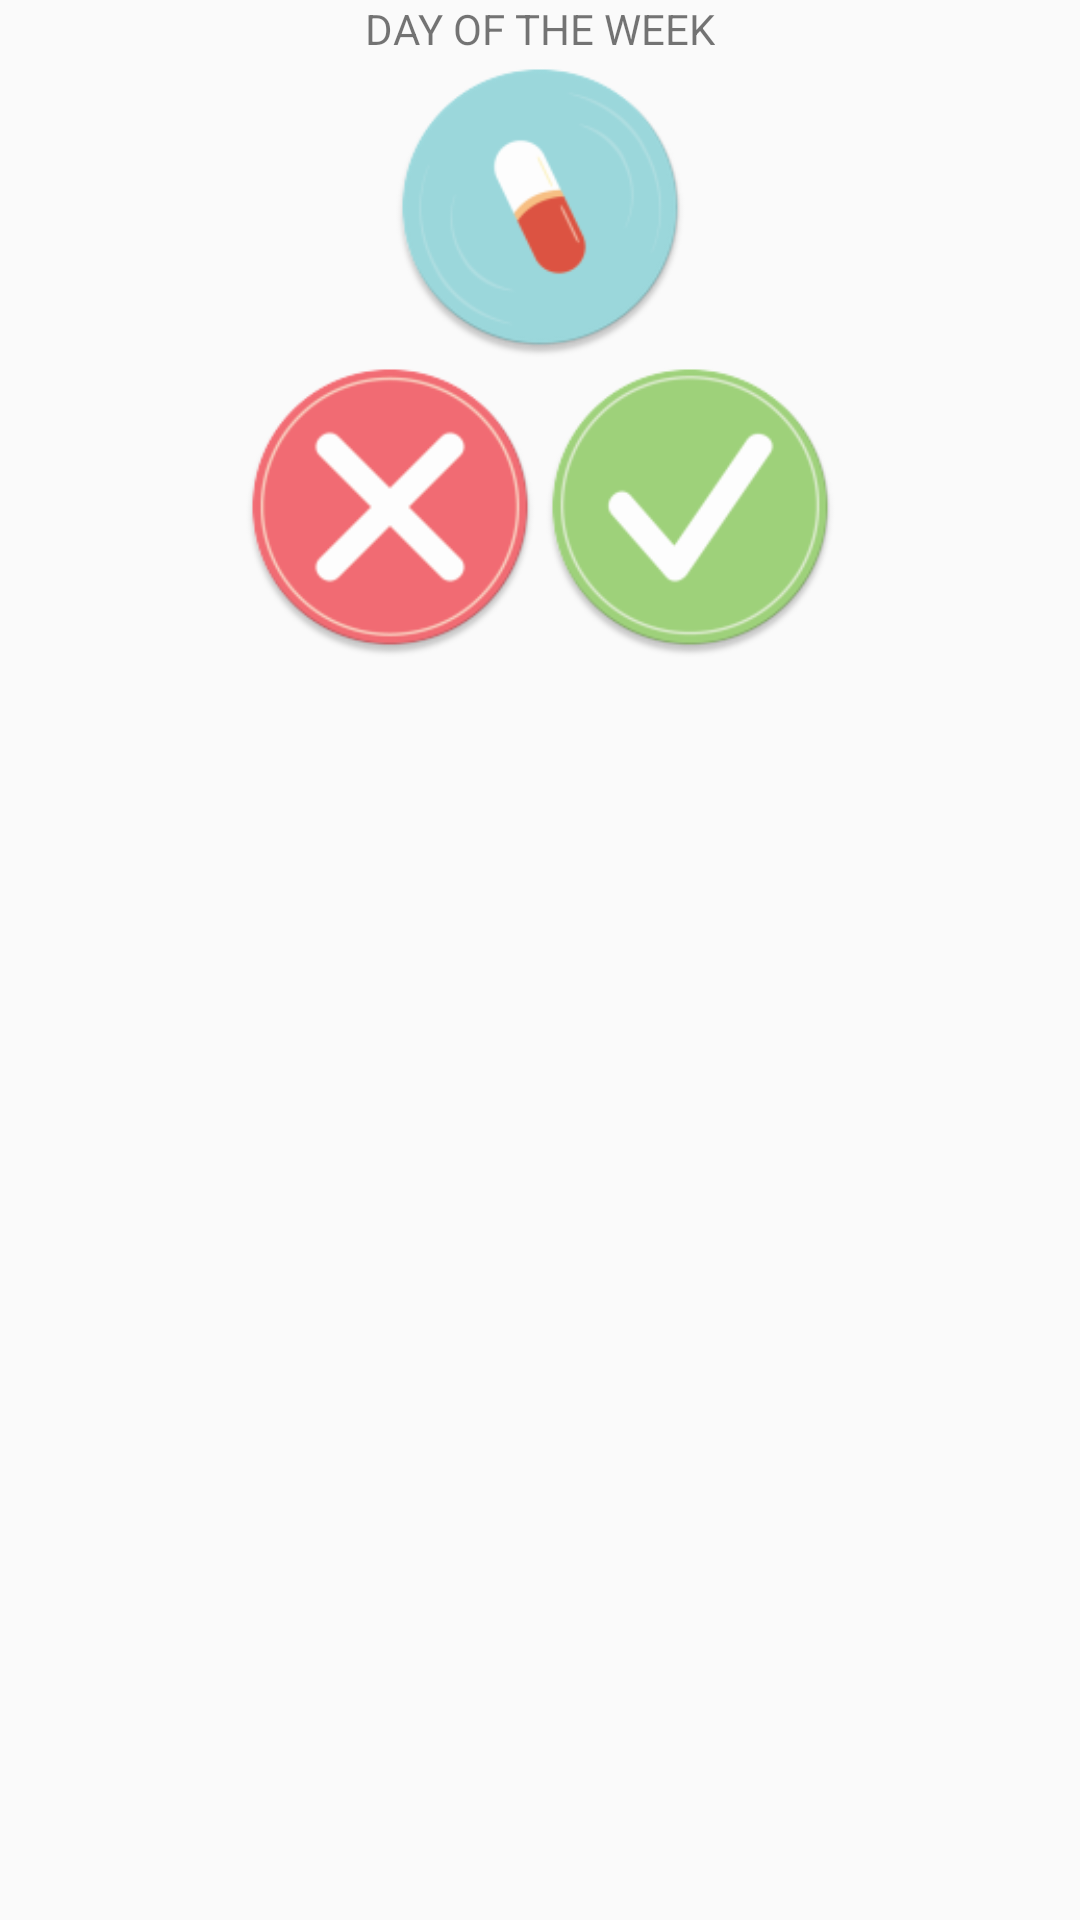

Screen size 1080w x 1920h. Icon name, then its box in pixels as (x1, y1, x2, y2):
pill: (402, 69, 679, 352)
select no: (252, 369, 529, 652)
select yes: (552, 369, 829, 652)
